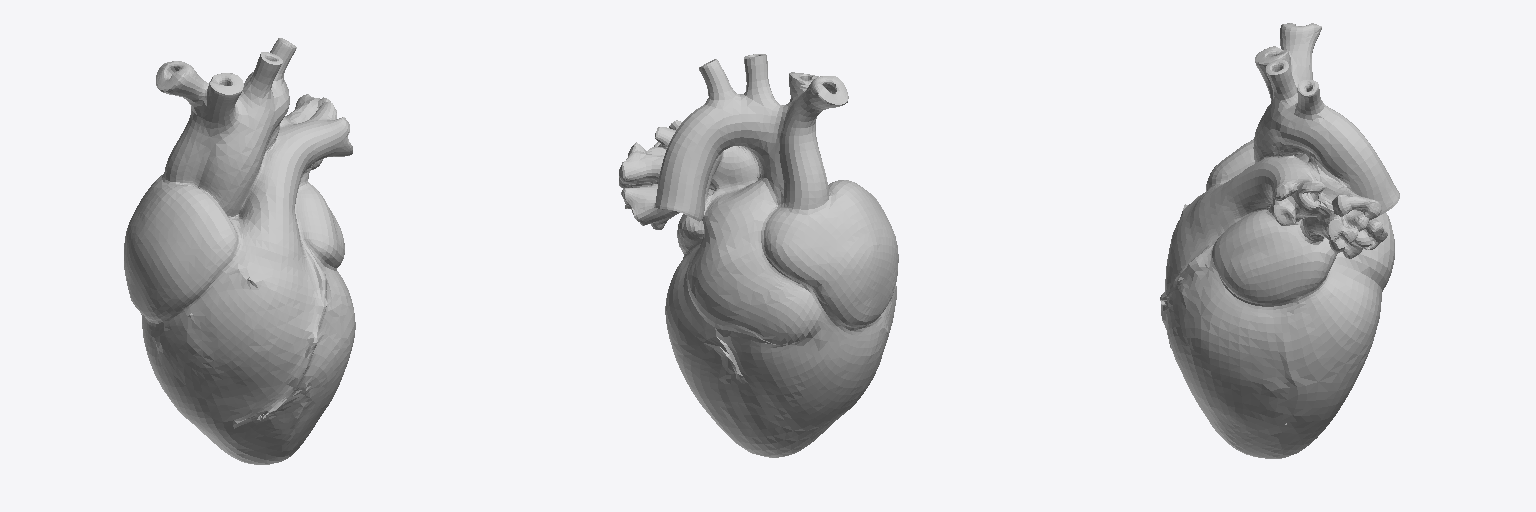
File: human heart .obj
3 renders of one model, left to right at view 1: azimuth 30°, elevation 25°; view 2: azimuth 150°, elevation 25°; view 3: azimuth 270°, elevation 25°, orthographic.
Parts seen in each view (by area): view 1: Heart; view 2: Heart; view 3: Heart.
Part boxes in pixels (x1,y1,x2,y2): Heart: (124, 38, 355, 464); Heart: (619, 54, 898, 457); Heart: (1160, 23, 1399, 458).
Size of the model in its own units: 5.78 by 9.43 by 5.14.